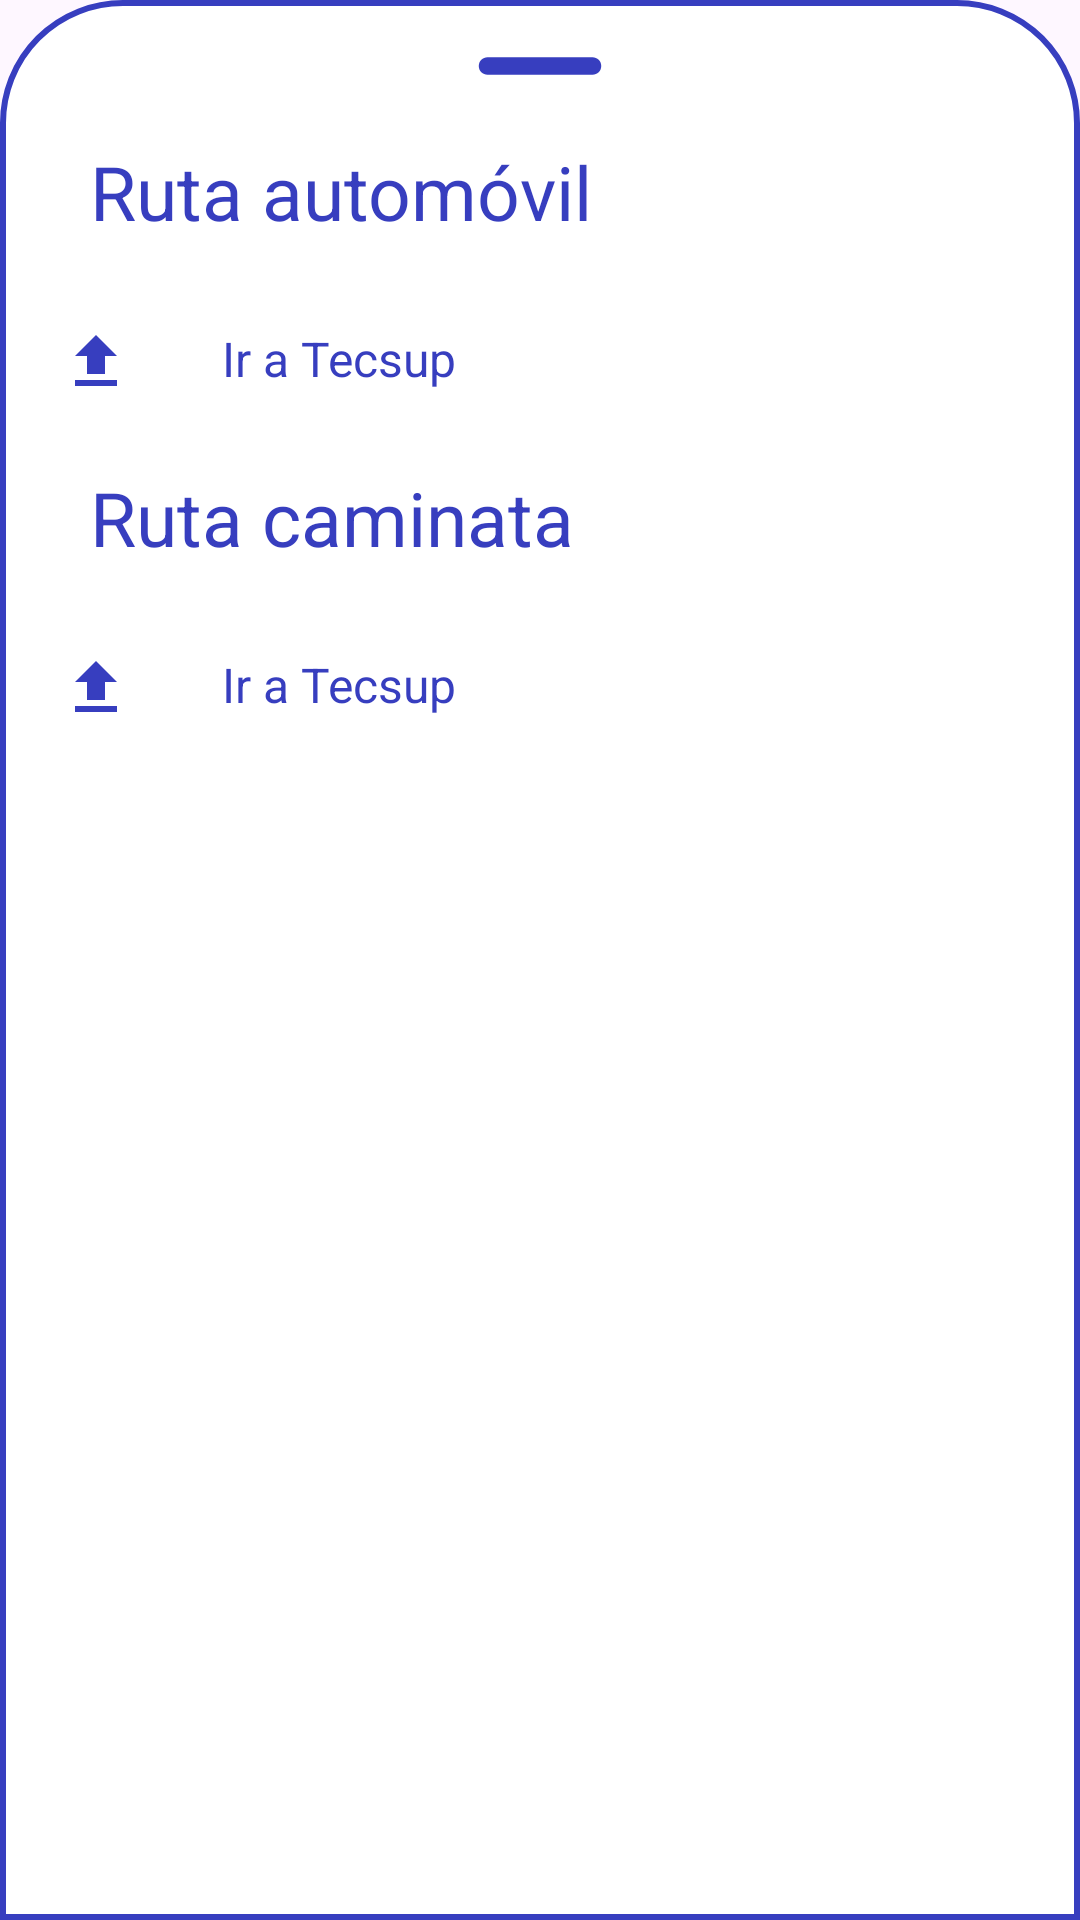

Locate icon controls on the screen. Image size 1080px x 1920px, boxes as (x1, y1, x2, y2).
upload: (75, 335, 117, 386), (75, 661, 117, 712)
